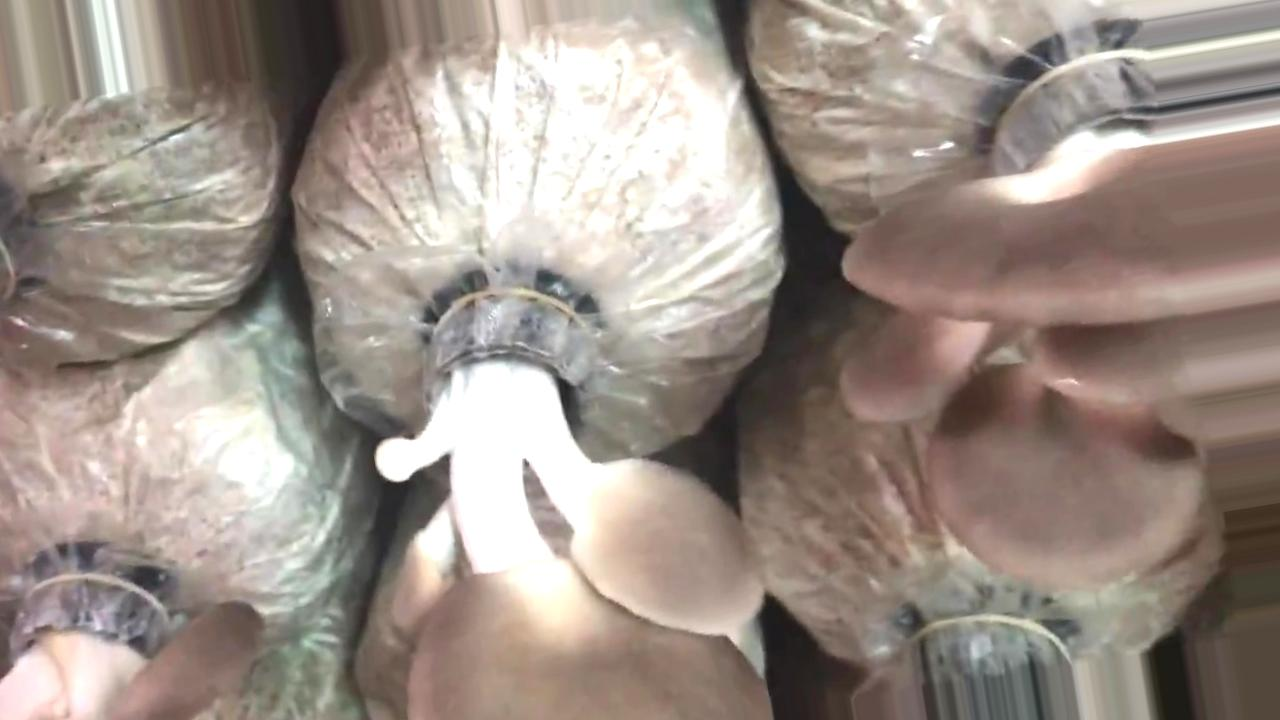nam: (842, 55, 1280, 591), (361, 293, 768, 720), (5, 552, 267, 720)
